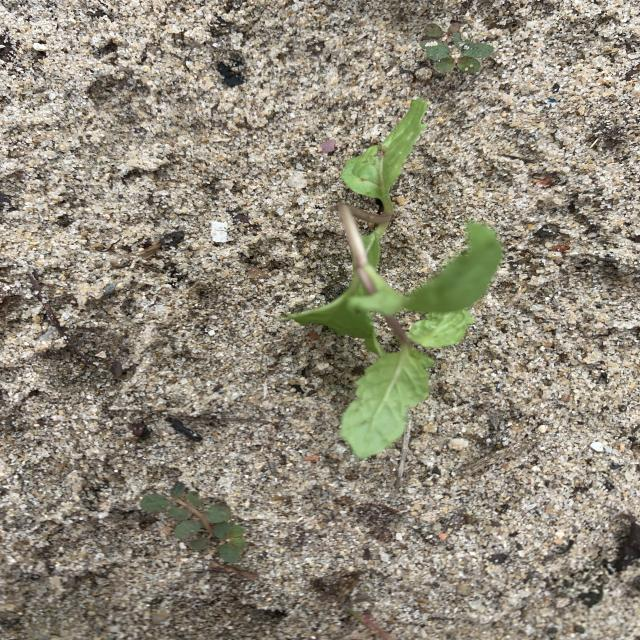crop: (280, 99, 503, 458)
weed: (140, 483, 258, 579), (420, 18, 496, 74)
